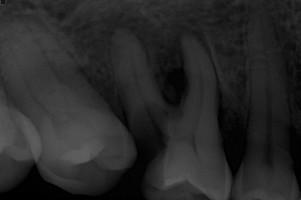Dental Caries: (116, 16, 216, 106)
